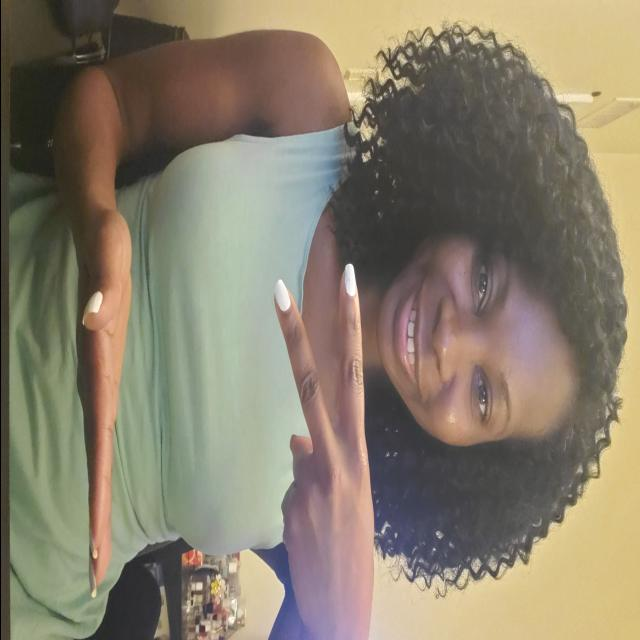Scissors: (250, 253, 380, 636)
